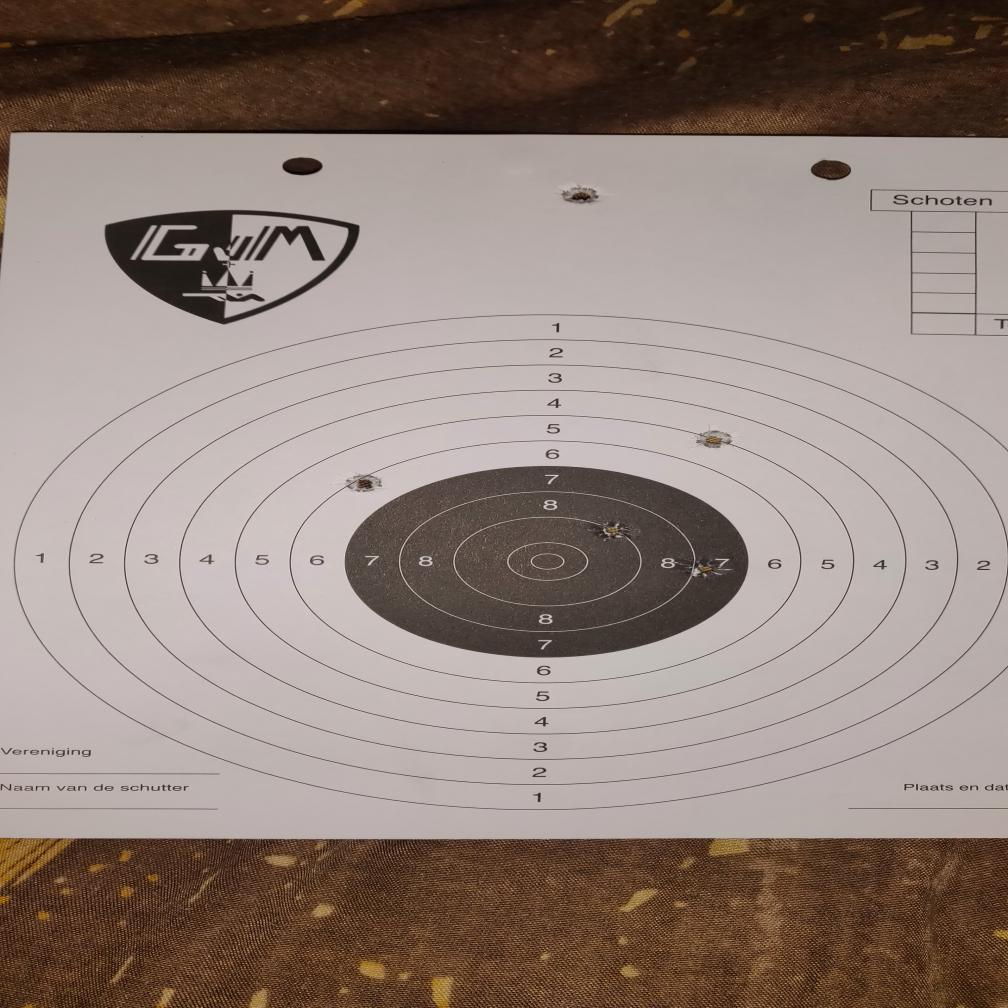0: (556, 187, 604, 205)
5: (692, 427, 744, 452)
6: (344, 474, 382, 491)
8: (680, 558, 727, 582)
9: (594, 520, 636, 541)
Target: (7, 308, 1008, 814)
black_contour: (345, 463, 746, 658)
